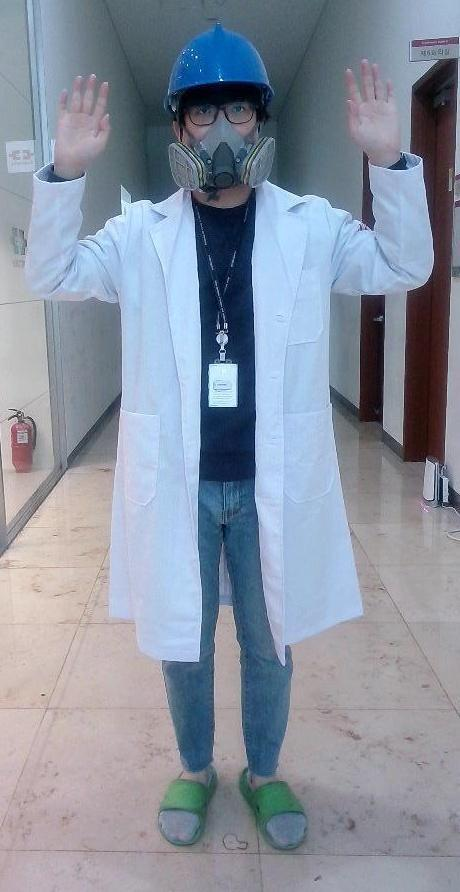lab_coat: (93, 198, 342, 648)
